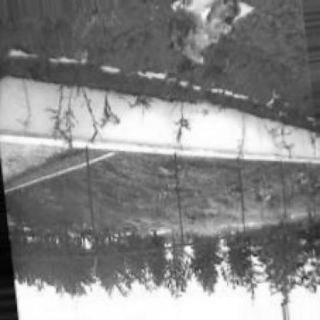Fire: (170, 4, 252, 62)
